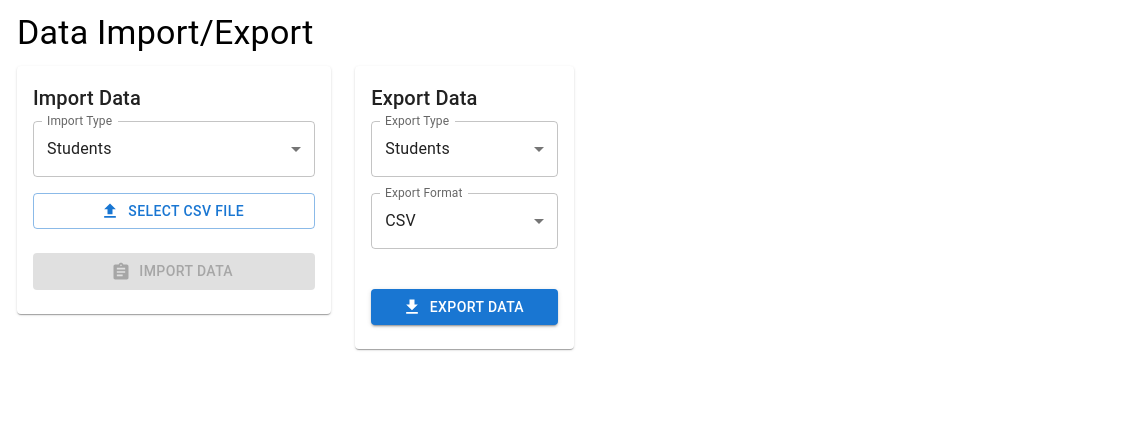
Test case: DataManager › Error handling › displays error message on API failure
Click the button "Export Data". click: (465, 307)
box: [371,289,558,325]
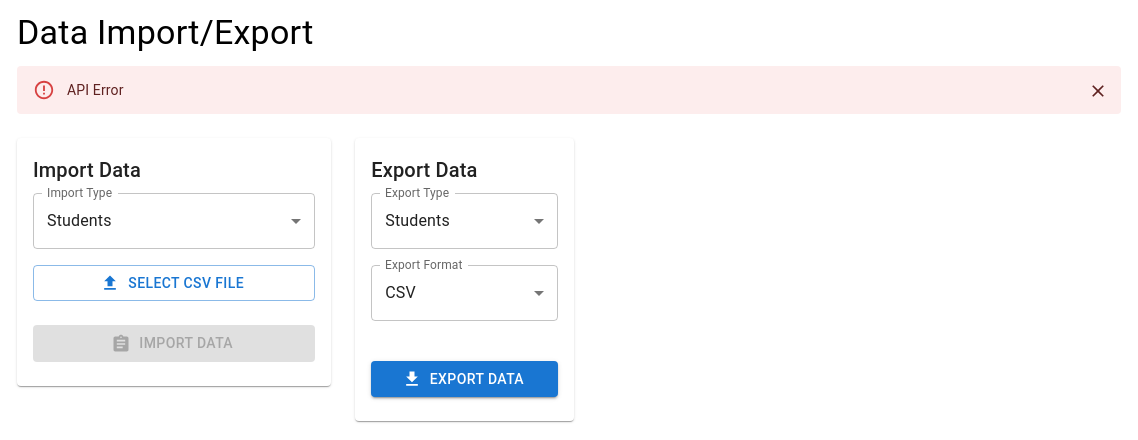
Check: the message "API Error" is shown, box [17,66,1121,114]
Check: the text "API Error" is shown, box [67,82,124,98]
